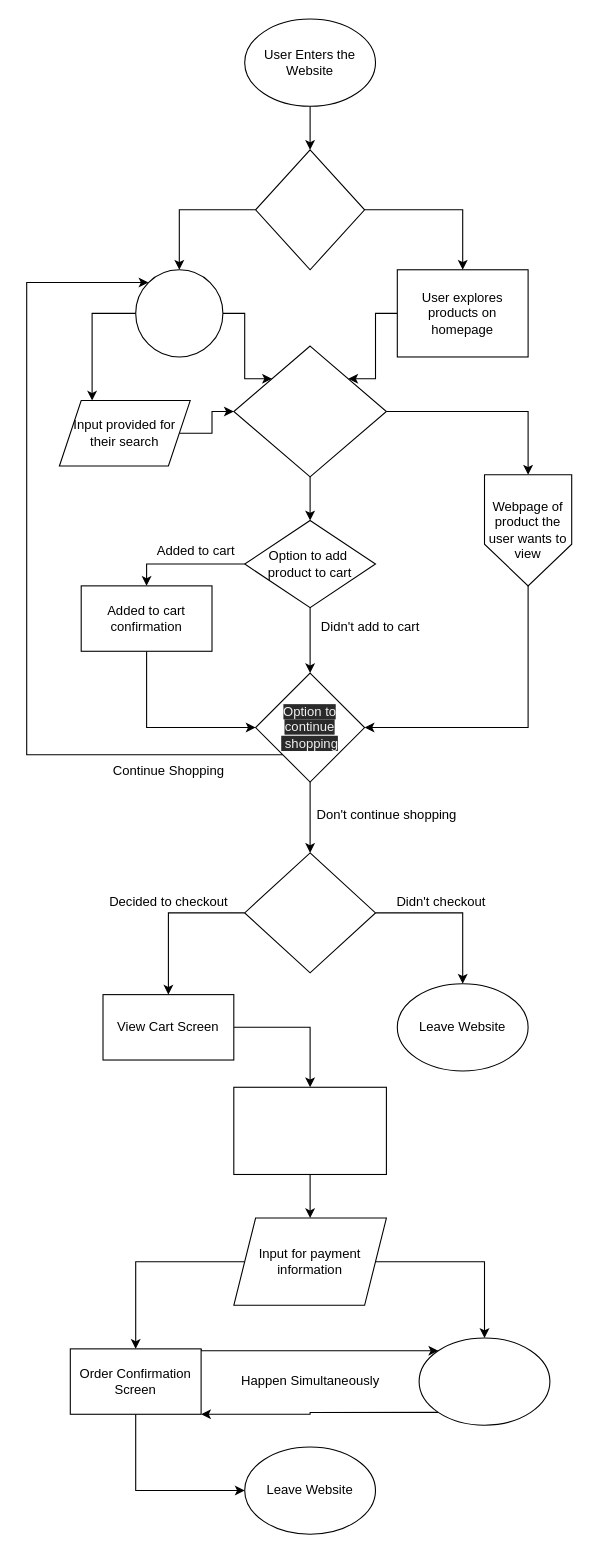
This 591x1553 diagram has some shape labels left out. The centre of each missing label's shape, as x and y in pixels:
Email with order confirmation: [484,1381]
Option to checkout items in cart: [310,912]
Option to view a specific product they want: [309,411]
User is taken to the Hompage: [310,209]
User searches for a product: [179,313]
View Payment Screen: [309,1130]
